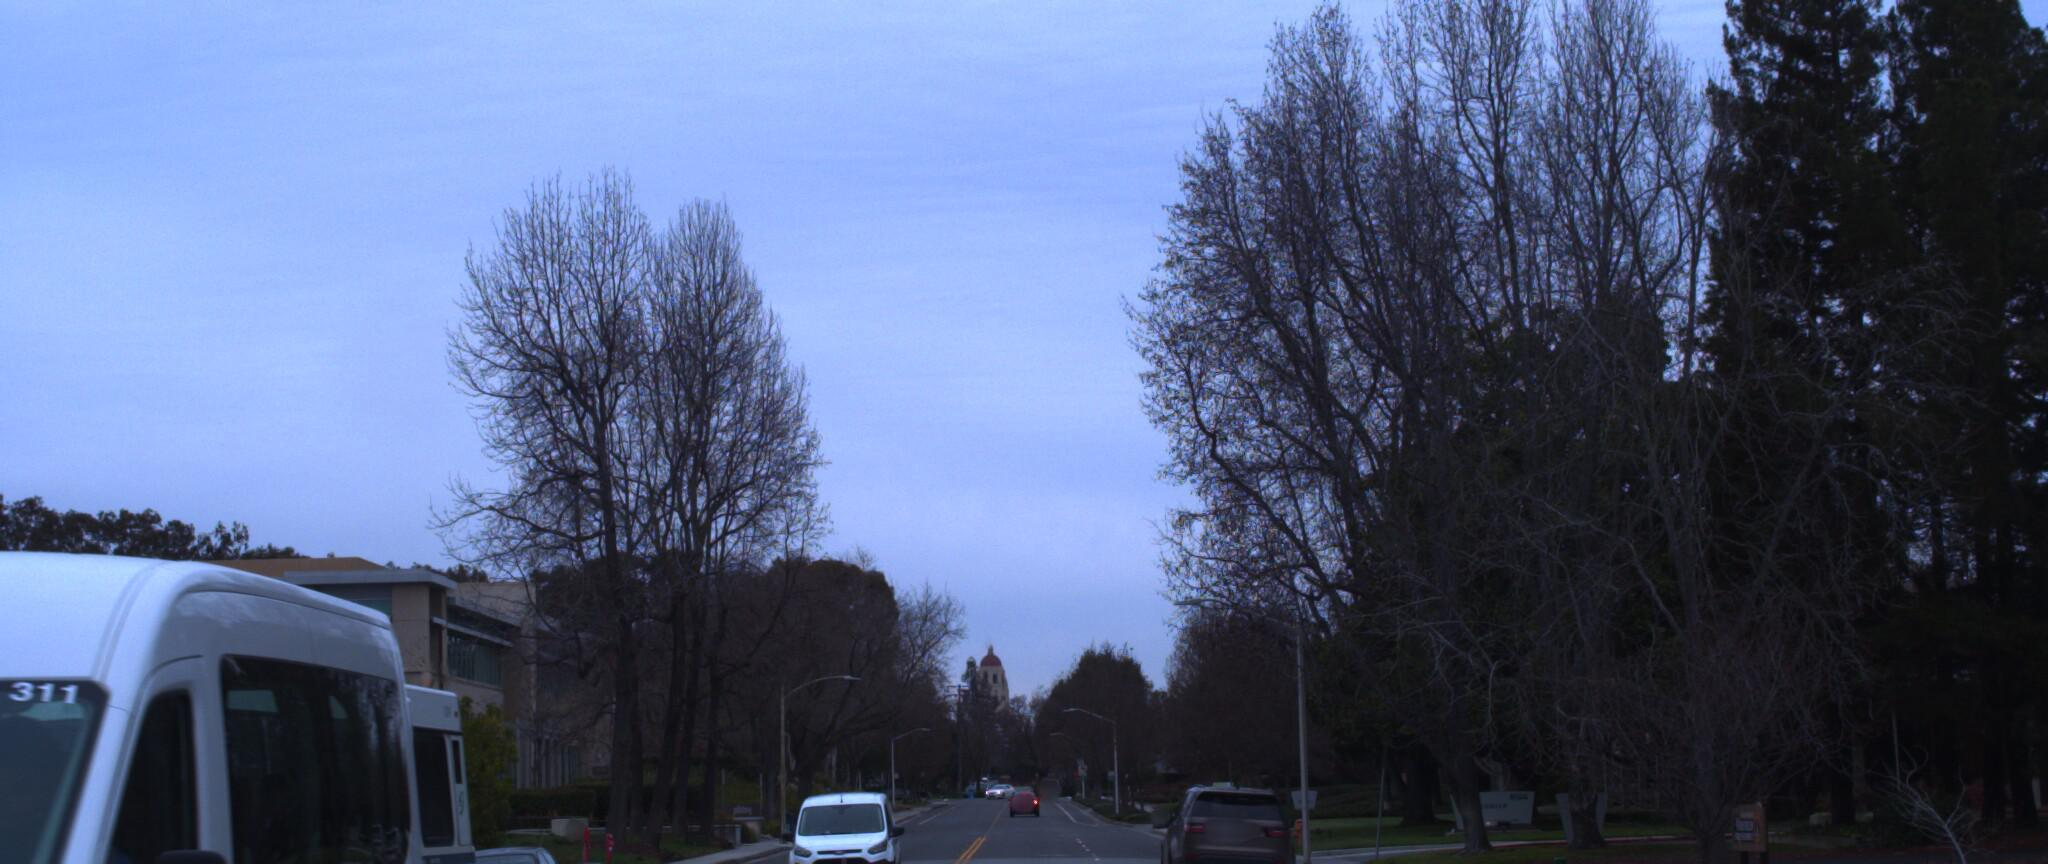bus: (0, 589, 511, 864)
car: (0, 433, 460, 864), (1139, 777, 1283, 864), (773, 784, 899, 864), (404, 835, 603, 864)
